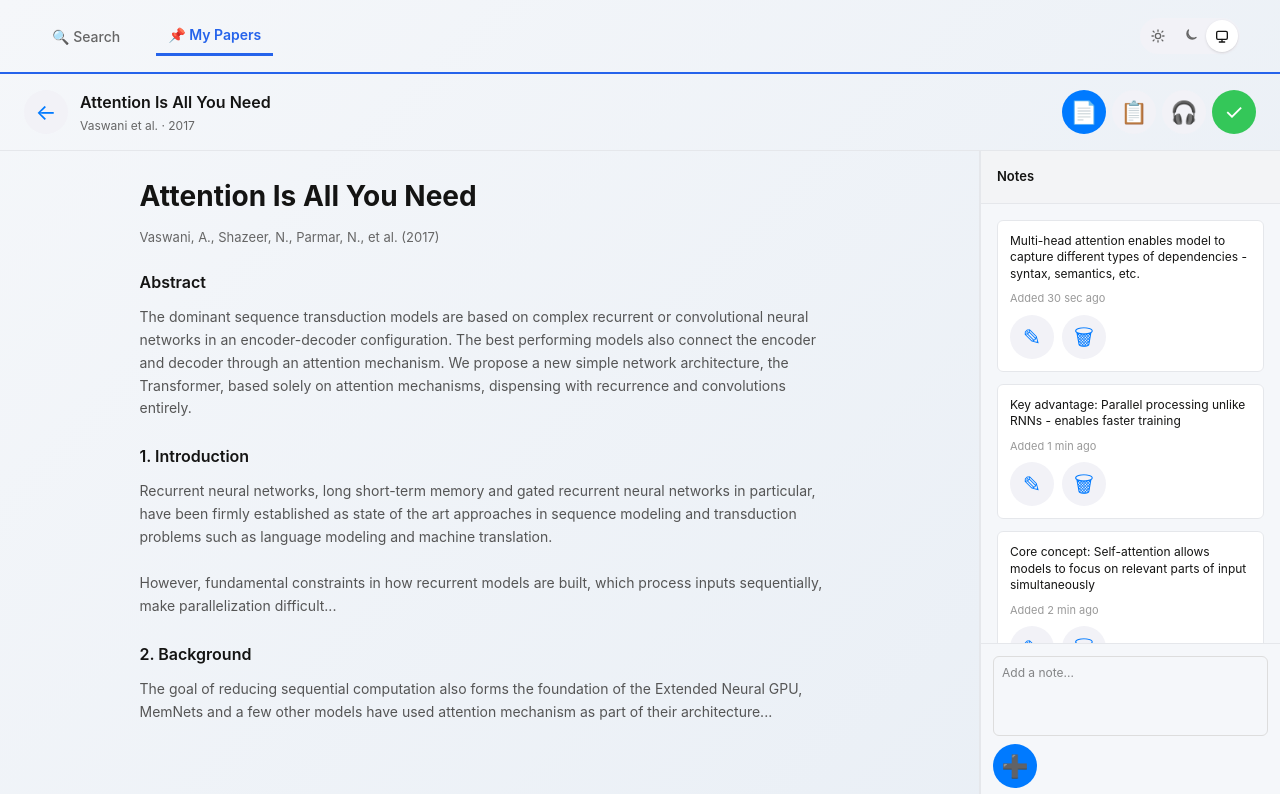
Test: UX: Visual reader › When the user opens Summary, Then they leave the reader for notes & summary
Click the link named "summary" at (1134,112), box [1112,90,1156,134]
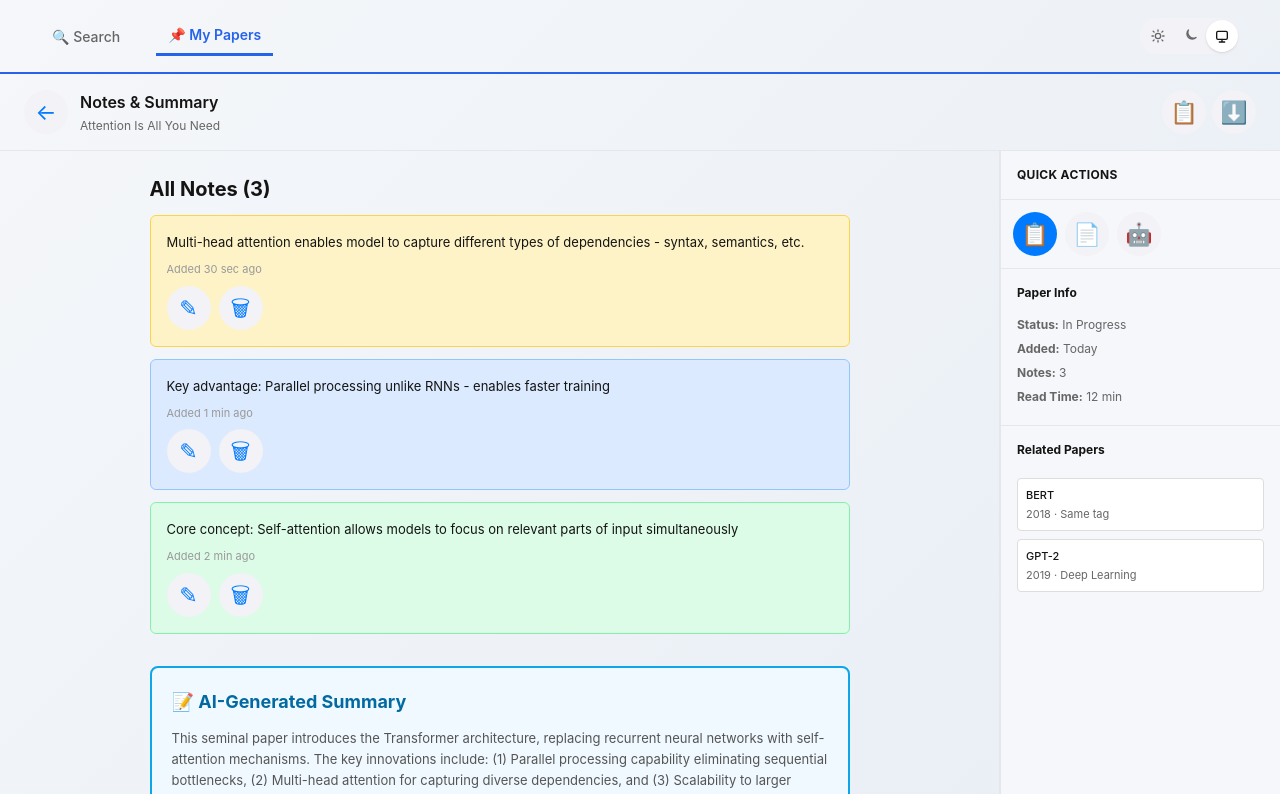
Expected: the heading "Notes & Summary" is shown, [80,90,220,114]
